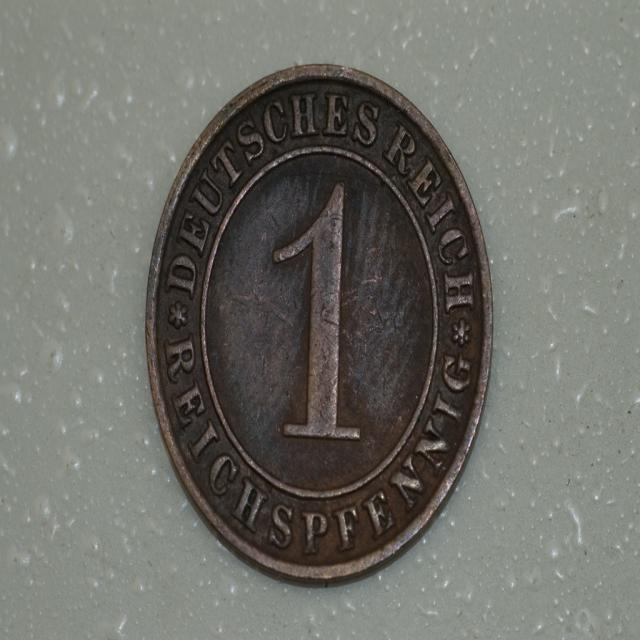Coin: (145, 60, 495, 583)
